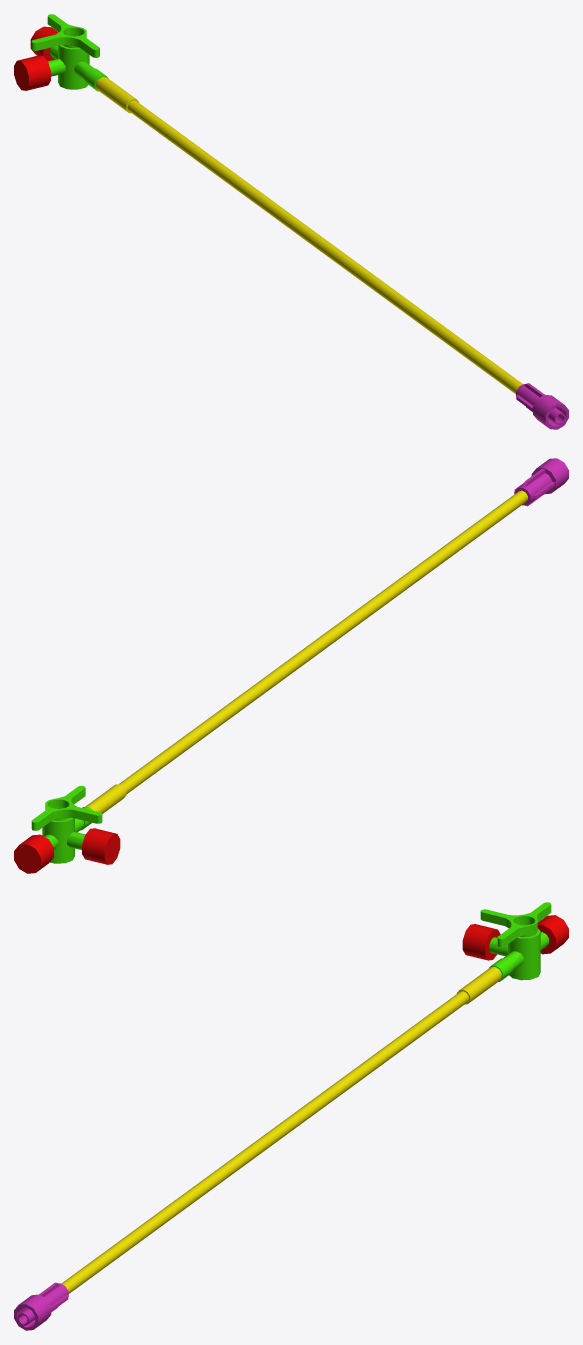
Rendered from Llave_LowPoly_v3.fbx.
The picture shows the model from 3 angles, top to bottom: view 1: azimuth 30°, elevation 25°; view 2: azimuth 150°, elevation 25°; view 3: azimuth 330°, elevation 25°; orthographic projection. The views are drawn at different scales.
Parts seen in each view (by area): view 1: polySurface19, pCube6, polySurface9, polySurface18, pCylinder15, polySurface20; view 2: polySurface19, polySurface9, pCube6, polySurface16, polySurface18, pCylinder15, polySurface20; view 3: polySurface19, pCube6, polySurface9, pCylinder15, polySurface18, polySurface16, polySurface20.
Boxes of the visible parts, x1,y1,x2,y2 form: polySurface19: (127, 100, 522, 394); pCube6: (516, 383, 568, 429); polySurface9: (31, 14, 99, 57); polySurface18: (14, 55, 50, 90); pCylinder15: (58, 45, 89, 89); polySurface20: (96, 77, 139, 113); polySurface19: (119, 490, 527, 794); polySurface9: (31, 785, 102, 830); pCube6: (514, 458, 568, 506); polySurface16: (14, 834, 53, 873); polySurface18: (82, 828, 120, 864); pCylinder15: (42, 818, 74, 863); polySurface20: (85, 784, 126, 813); polySurface19: (61, 991, 468, 1293); pCube6: (14, 1282, 68, 1330); polySurface9: (480, 902, 551, 947); pCylinder15: (508, 928, 540, 980); polySurface18: (462, 924, 500, 960); polySurface16: (537, 915, 568, 954); polySurface20: (456, 967, 501, 1004).
Size of the model in its own units: 2.4 by 1.78 by 32.49.
